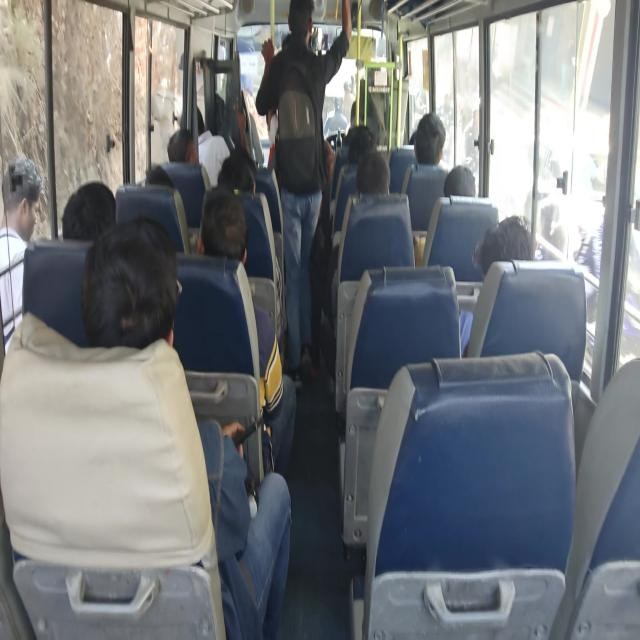person: (84, 234, 172, 348), (285, 1, 328, 152), (477, 227, 533, 295), (64, 188, 118, 258), (201, 187, 243, 264), (361, 157, 404, 215), (212, 157, 257, 201), (446, 172, 488, 218), (418, 121, 451, 174), (139, 160, 181, 200), (347, 126, 382, 163), (180, 100, 210, 137), (171, 132, 199, 171), (231, 144, 256, 174), (409, 130, 432, 160)
